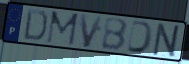B: (101, 18, 130, 53)
D: (125, 19, 155, 55), (22, 8, 49, 43)
M: (45, 10, 80, 47)
N: (151, 22, 184, 60)
V: (78, 13, 105, 50)
